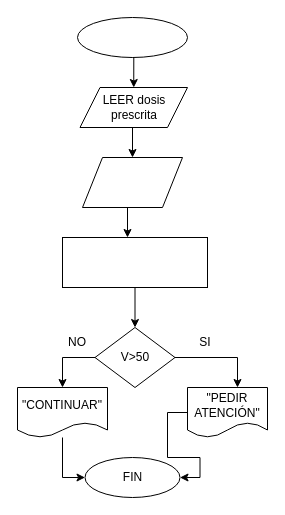
The diagram is 285 pixels wide and 515 high, and some of its shapes have lost their labels. The shapes that lost their labels are listed below. From the top down, each one's centre as x and y in pixels, then its label:
At pixel 132 37: "INICIO".
At pixel 132 182: "LEER concentración".
At pixel 135 262: "V = dosis / concentración (mL/h)".
